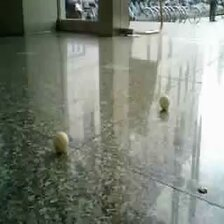w: (53, 132, 69, 152), (158, 94, 170, 109)
